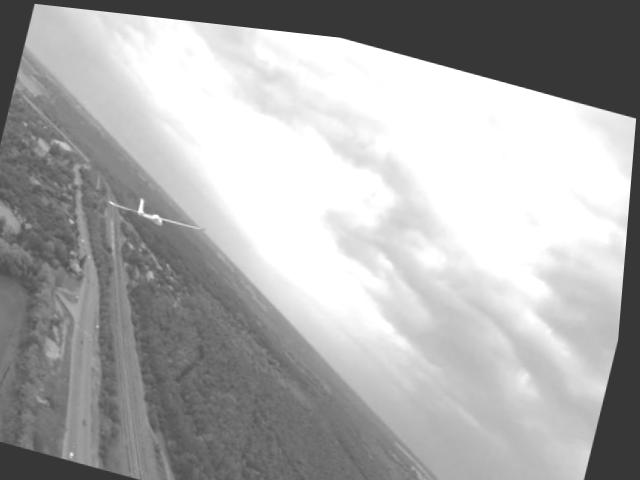hedef: (100, 181, 219, 245)
